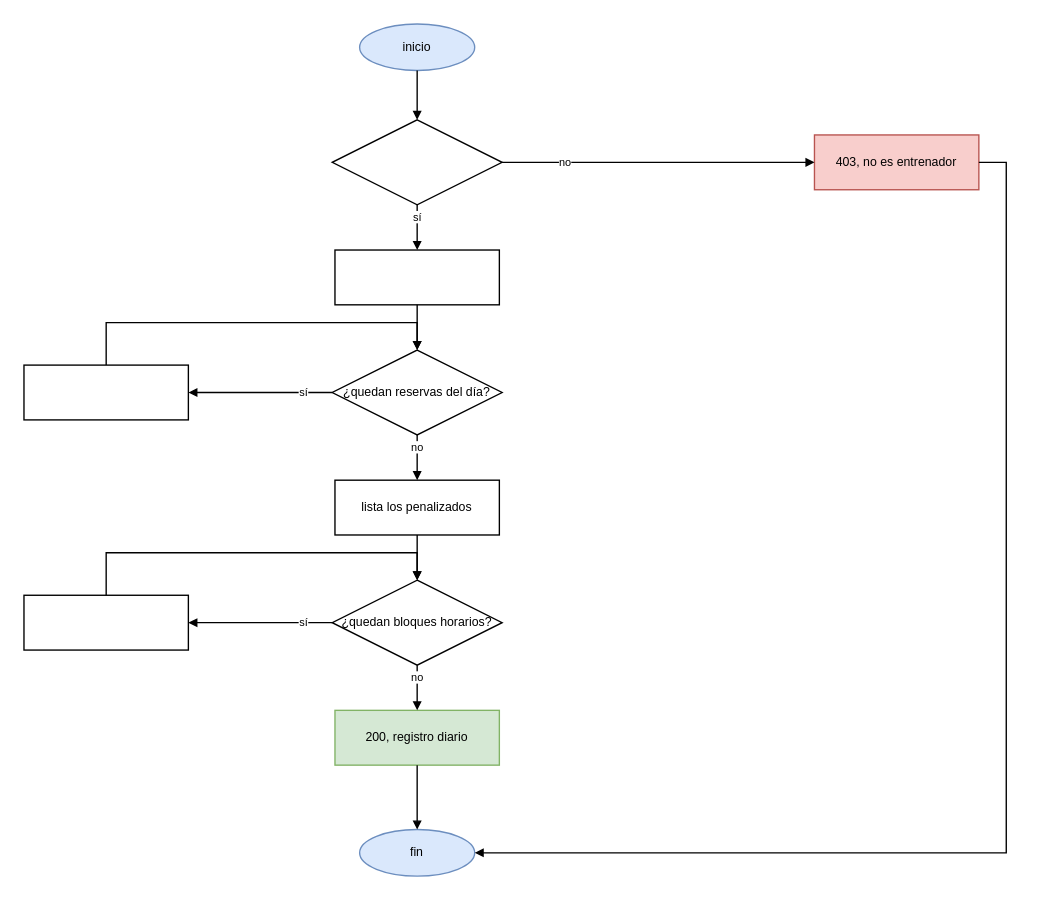
The diagram is 1038 pixels wide and 900 high, and some of its shapes have lost their labels. Each missing label, with the centre of its shape:
"cuenta las reservas del bloque" belongs at [105,622].
"la clasifica según su estado" belongs at [105,392].
"toma la fecha de la jornada" belongs at [416,277].
"¿es entrenador?" belongs at [416,162].
